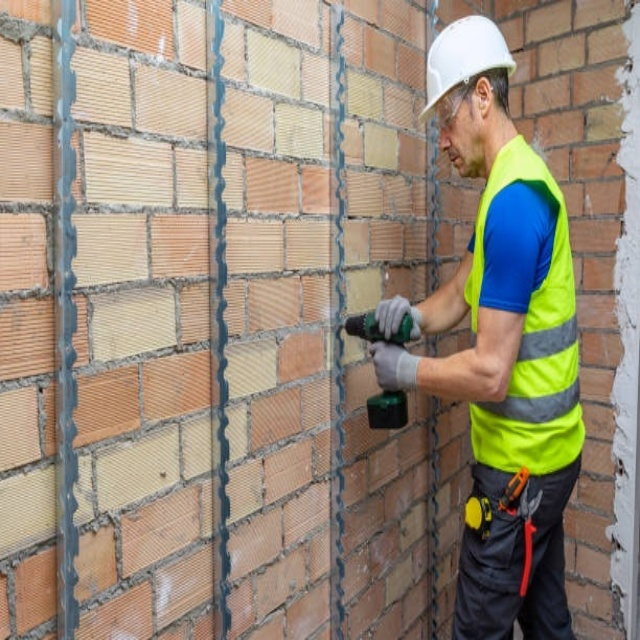Gafas: (438, 80, 483, 131)
Guantes: (369, 342, 424, 391), (374, 295, 423, 341)
Sin_mascara: (444, 146, 471, 174)
